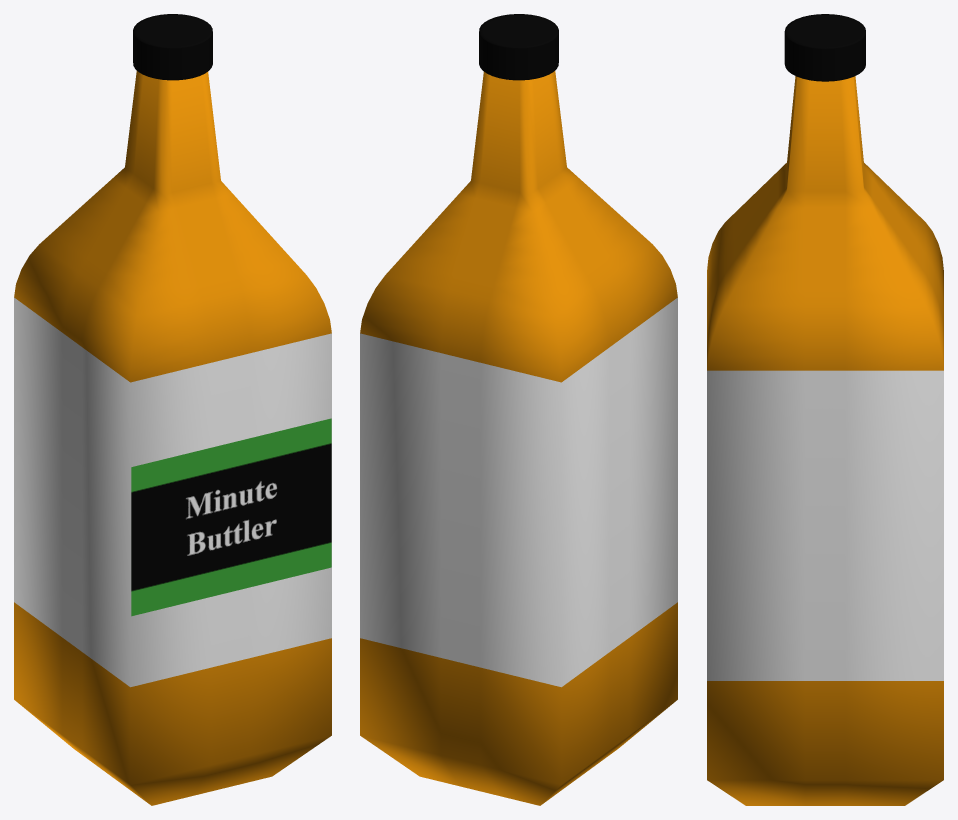
Rendered from Envase de jugo grande.fbx.
3 views of the same model, side by side, from view 1: azimuth 30°, elevation 25°; view 2: azimuth 150°, elevation 25°; view 3: azimuth 270°, elevation 25° (orthographic).
Parts seen in each view (by area): view 1: Cube, Marcas Piratas-07, Circle; view 2: Cube, Circle; view 3: Cube, Circle.
Part boxes in pixels (x1=…): Cube: x1=14, y1=71, x2=331, y2=805; Marcas Piratas-07: x1=131, y1=418, x2=331, y2=616; Circle: x1=133, y1=14, x2=212, y2=80; Cube: x1=360, y1=71, x2=677, y2=805; Circle: x1=479, y1=14, x2=558, y2=80; Cube: x1=707, y1=76, x2=943, y2=805; Circle: x1=784, y1=14, x2=865, y2=81.
Bounding box in the file's own units: 130 × 452 × 131.
